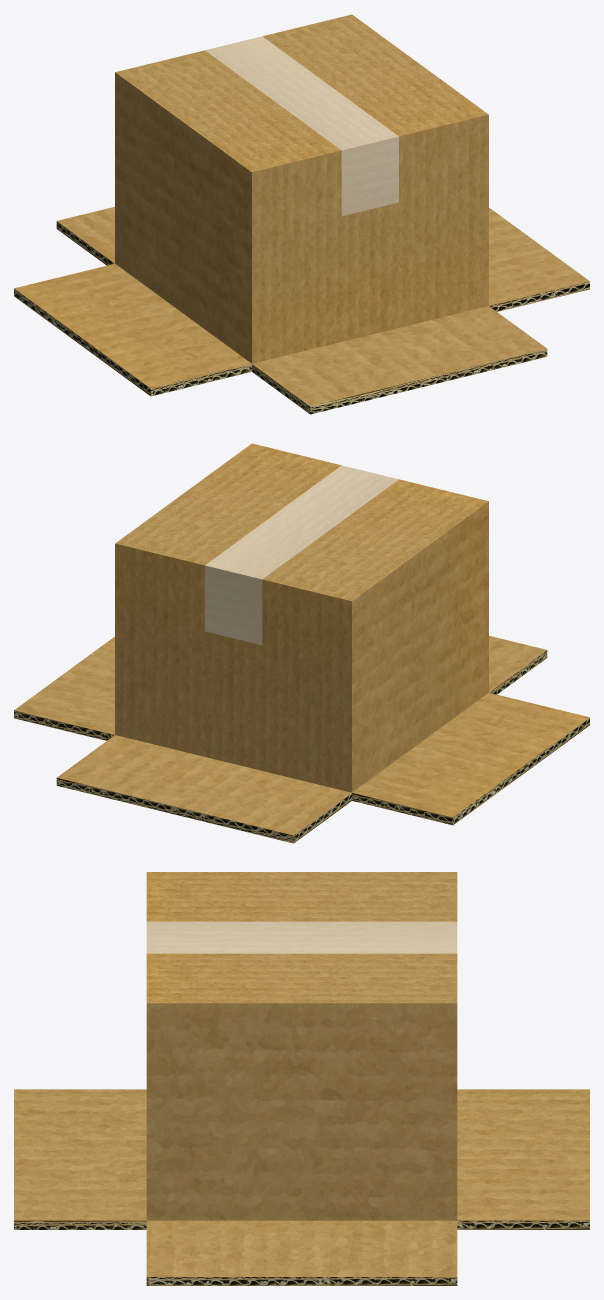
File: Cardboard_Box_1.fbx
3 views of the same model, one above another, from view 1: azimuth 30°, elevation 25°; view 2: azimuth 150°, elevation 25°; view 3: azimuth 270°, elevation 25° (orthographic). The views are drawn at different scales.
Visible parts, largest first — view 1: Cardboard_Box_1_new; view 2: Cardboard_Box_1_new; view 3: Cardboard_Box_1_new.
Part boxes in pixels (<box>): Cardboard_Box_1_new: <box>14,14,589,414</box>; Cardboard_Box_1_new: <box>14,443,589,843</box>; Cardboard_Box_1_new: <box>14,872,589,1285</box>.
Bounding box in the file's own units: 130 × 56.55 × 130.
